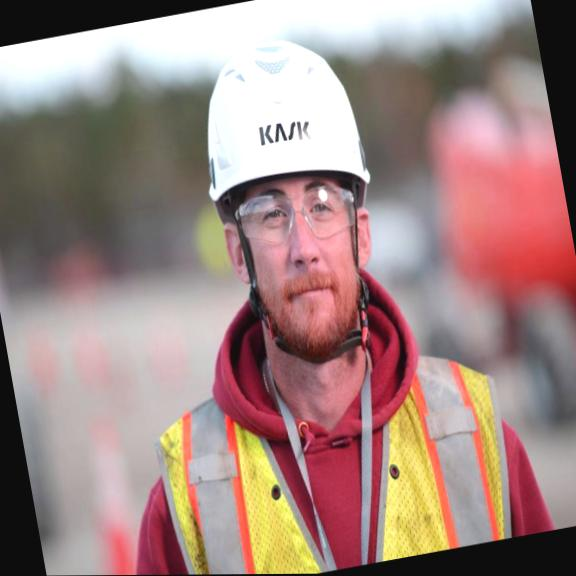safety_vest: (115, 342, 532, 575)
